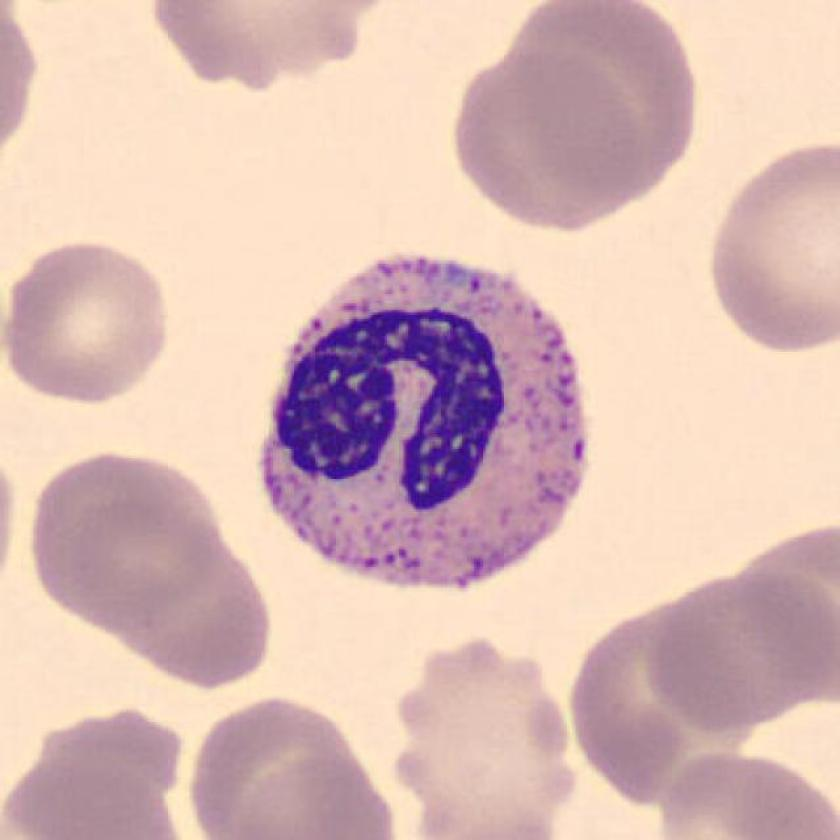neutrophil: (260, 253, 589, 586)
